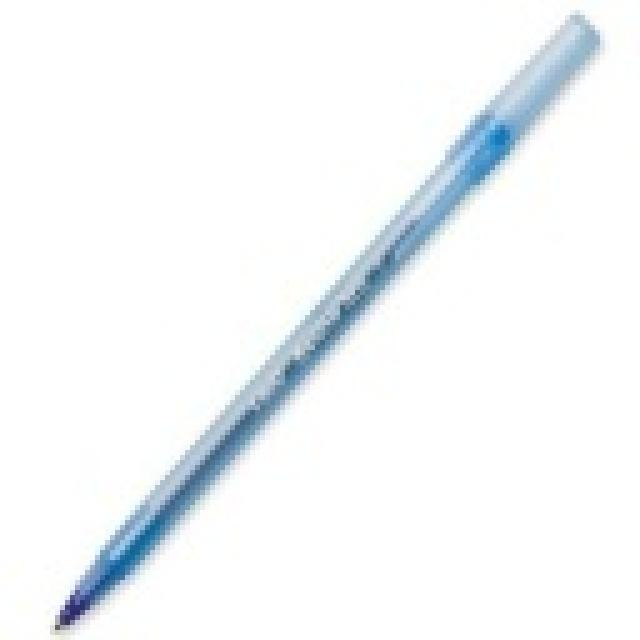pen: (37, 14, 624, 634)
